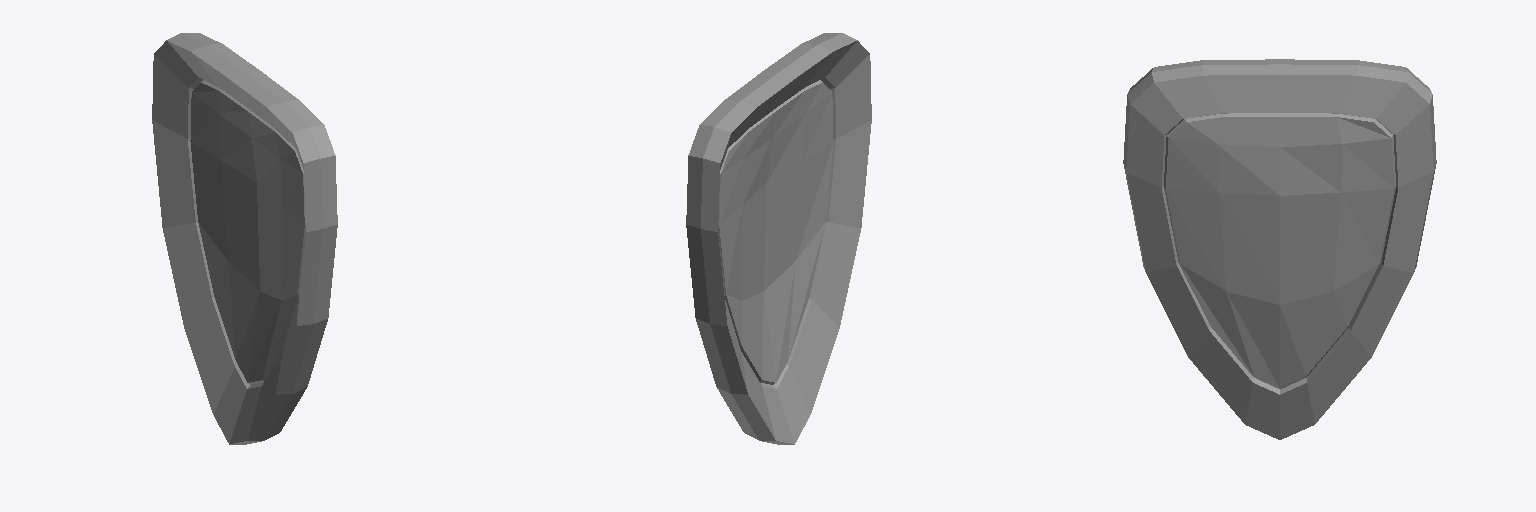
Rendered from Shield.obj.
3 views of the same model, side by side, from view 1: azimuth 30°, elevation 25°; view 2: azimuth 150°, elevation 25°; view 3: azimuth 270°, elevation 25° (orthographic).
Visible parts, largest first — view 1: Plane_Plane.002; view 2: Plane_Plane.002; view 3: Plane_Plane.002.
Boxes of the visible parts, box(x1,y1,x2,y2) form: Plane_Plane.002: box(152, 33, 337, 444); Plane_Plane.002: box(686, 33, 871, 444); Plane_Plane.002: box(1123, 59, 1436, 439).
Bounding box in the file's own units: 2.01 × 13.07 × 9.97.